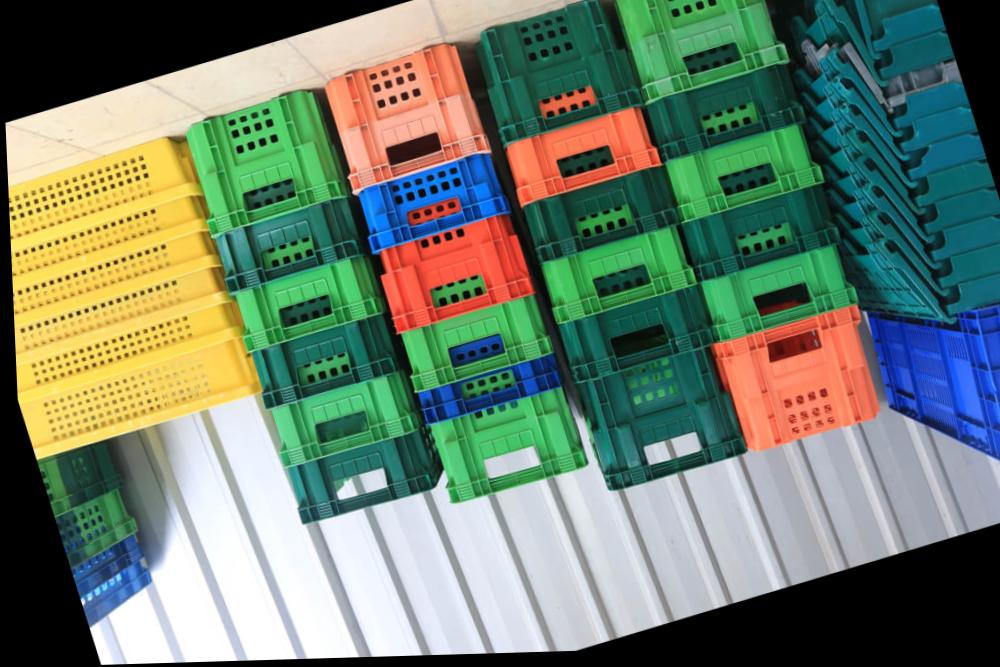plastic: (591, 0, 878, 450), (480, 0, 744, 486), (326, 44, 585, 499), (187, 91, 440, 520), (779, 0, 999, 456), (10, 138, 258, 455), (39, 442, 149, 623)
